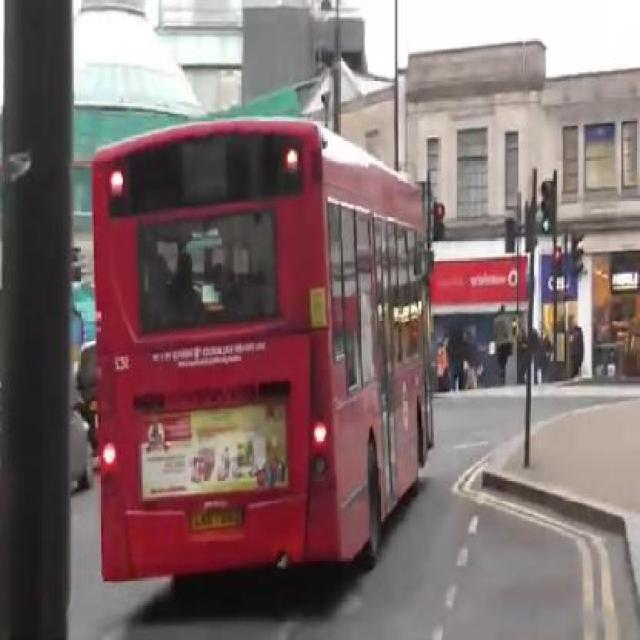bus: (94, 117, 438, 585)
